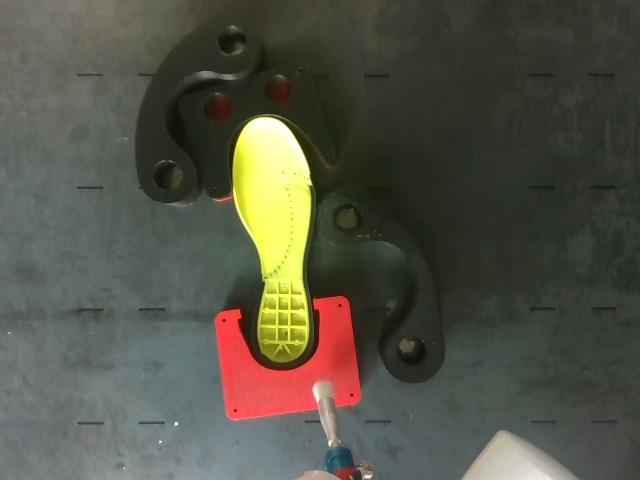shoes: (234, 119, 315, 364)
